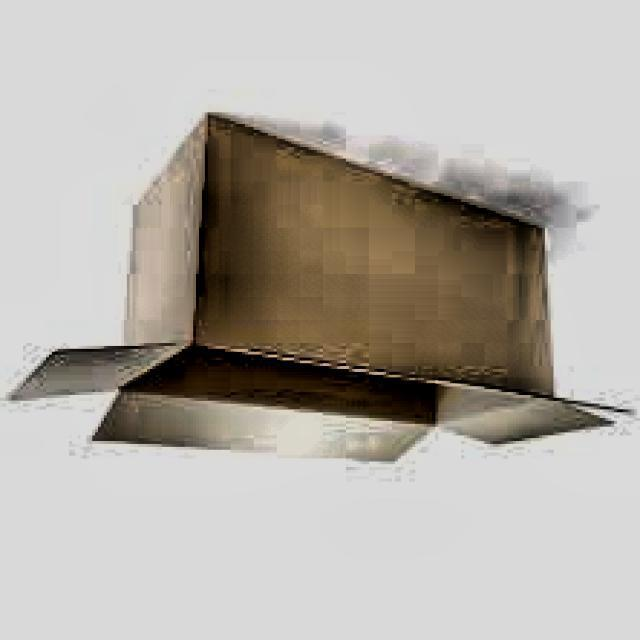cardboard: (8, 112, 638, 467)
